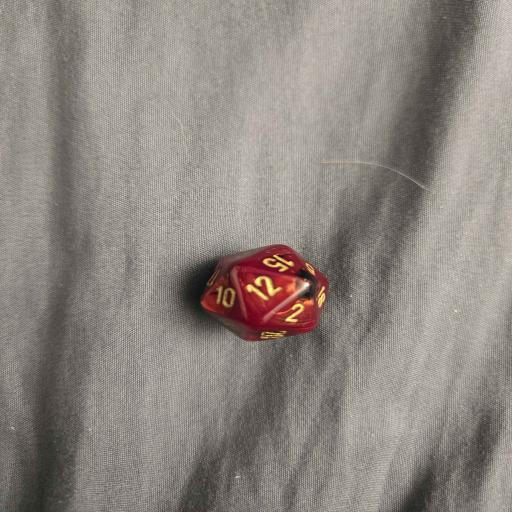twenty sided dice: (200, 244, 329, 342)
